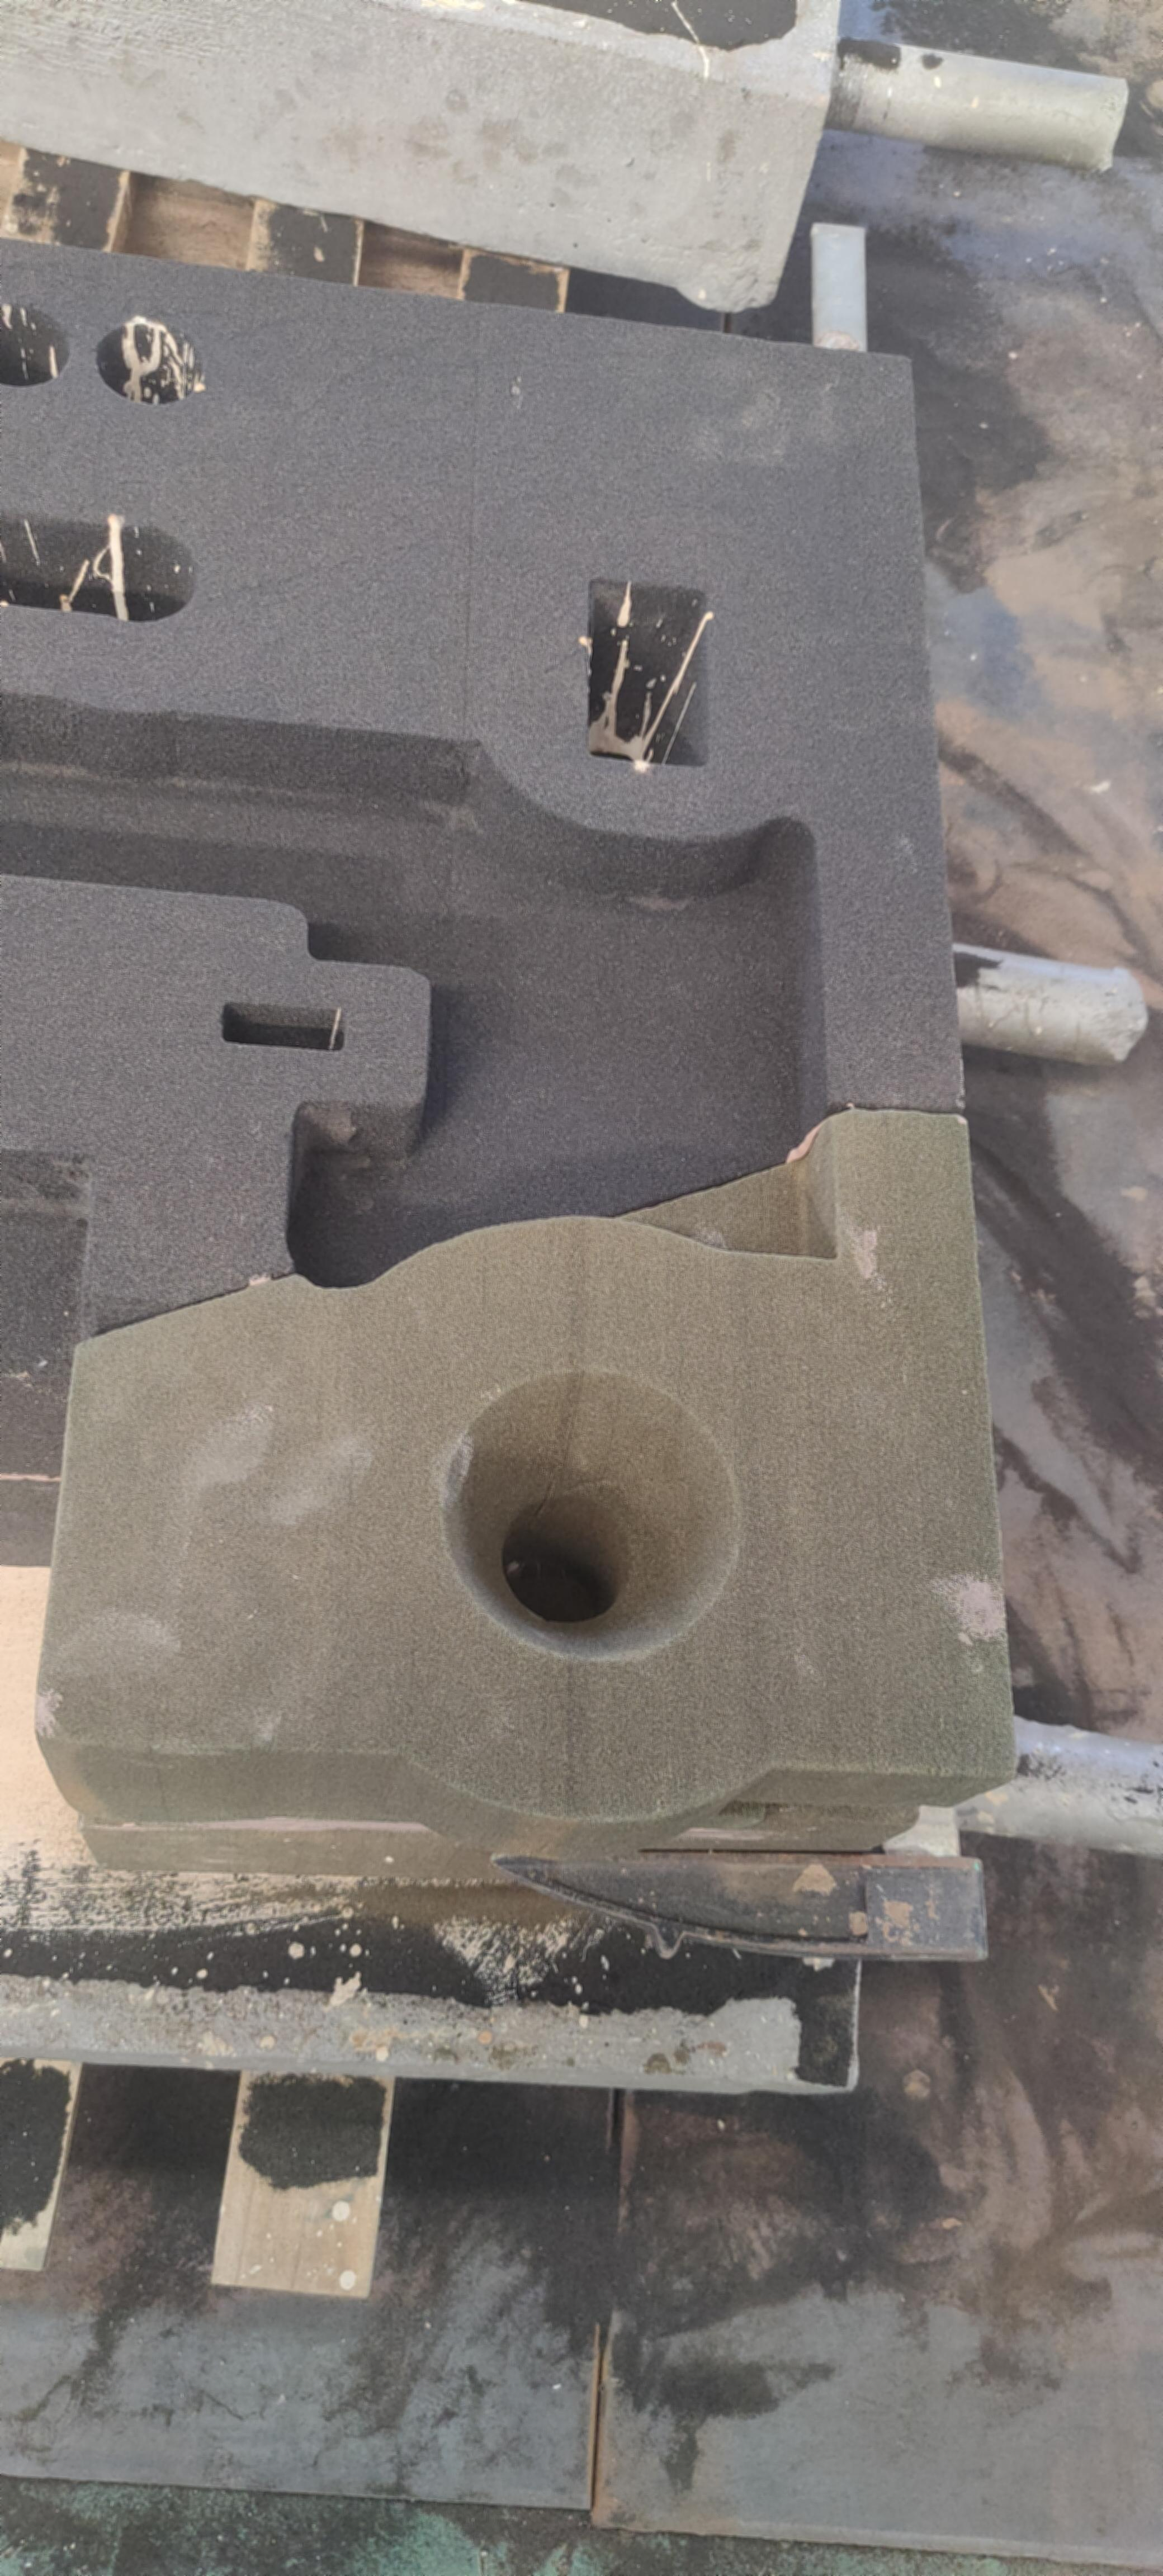pouring hole: (439, 1365, 742, 1658)
